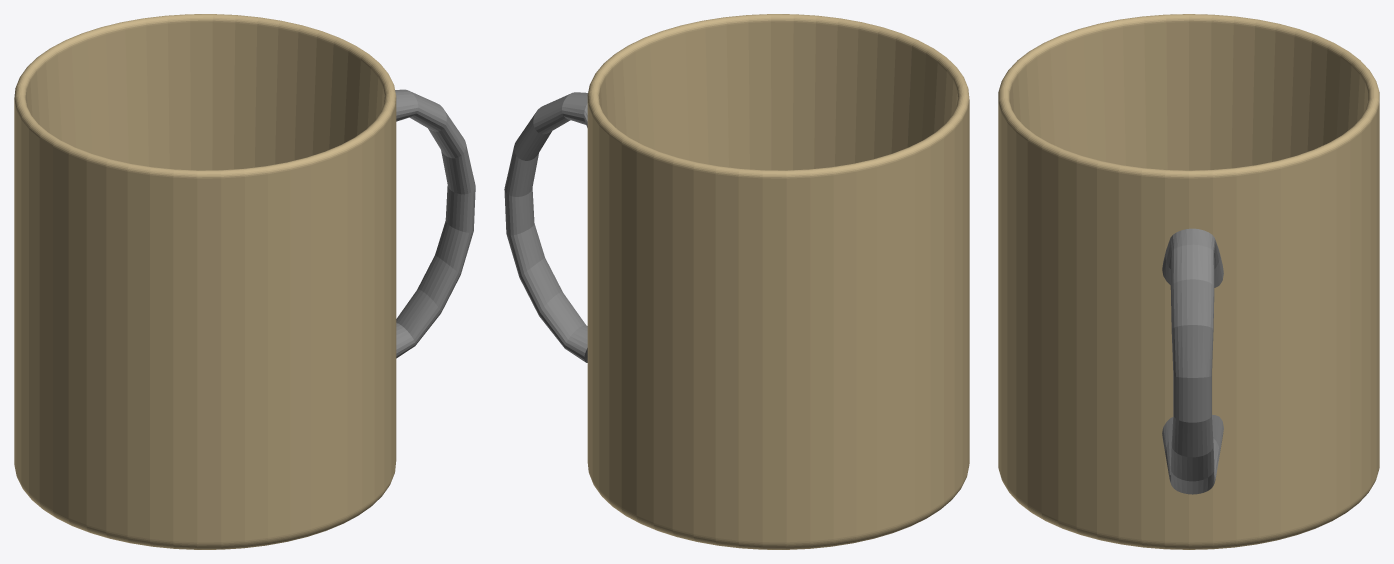
The picture shows the model from 3 angles, left to right: view 1: azimuth 30°, elevation 25°; view 2: azimuth 150°, elevation 25°; view 3: azimuth 270°, elevation 25°; orthographic projection.
Parts seen in each view (by area): view 1: mesh2.002_mesh2-geometry, mesh1.001_mesh1-geometry; view 2: mesh2.002_mesh2-geometry, mesh1.001_mesh1-geometry; view 3: mesh2.002_mesh2-geometry, mesh1.001_mesh1-geometry.
Boxes of the visible parts, <box> form: mesh2.002_mesh2-geometry: <box>14,14,396,549</box>; mesh1.001_mesh1-geometry: <box>395,89,475,358</box>; mesh2.002_mesh2-geometry: <box>587,14,969,549</box>; mesh1.001_mesh1-geometry: <box>504,92,587,362</box>; mesh2.002_mesh2-geometry: <box>998,14,1379,549</box>; mesh1.001_mesh1-geometry: <box>1162,228,1223,494</box>.
Bounding box in the file's own units: 0.6618 × 0.5552 × 0.5037.
